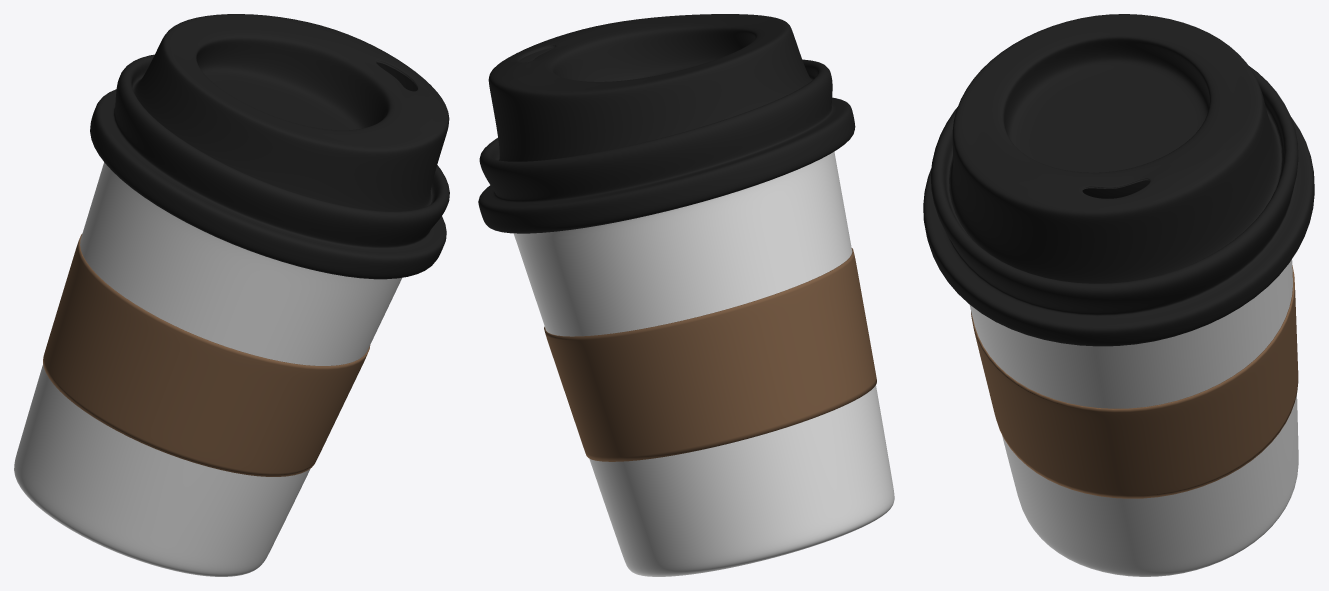
File: Coffee Cup.fbx
The picture shows the model from 3 angles, left to right: view 1: azimuth 30°, elevation 25°; view 2: azimuth 150°, elevation 25°; view 3: azimuth 270°, elevation 25°; orthographic projection. The views are drawn at different scales.
Visible parts, largest first — view 1: soda_cup.025_Circle.187, soda_cup.026_Circle.001; view 2: soda_cup.025_Circle.187, soda_cup.026_Circle.001; view 3: soda_cup.025_Circle.187, soda_cup.026_Circle.001.
Part boxes in pixels (x1=…): soda_cup.025_Circle.187: x1=14, y1=14, x2=449, y2=576; soda_cup.026_Circle.001: x1=43, y1=234, x2=370, y2=476; soda_cup.025_Circle.187: x1=478, y1=14, x2=894, y2=576; soda_cup.026_Circle.001: x1=544, y1=248, x2=876, y2=461; soda_cup.025_Circle.187: x1=923, y1=14, x2=1314, y2=576; soda_cup.026_Circle.001: x1=971, y1=265, x2=1298, y2=498.
Bounding box in the file's own units: 172 × 217 × 148.
